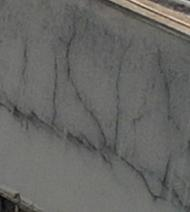fissura: (3, 27, 190, 209)
